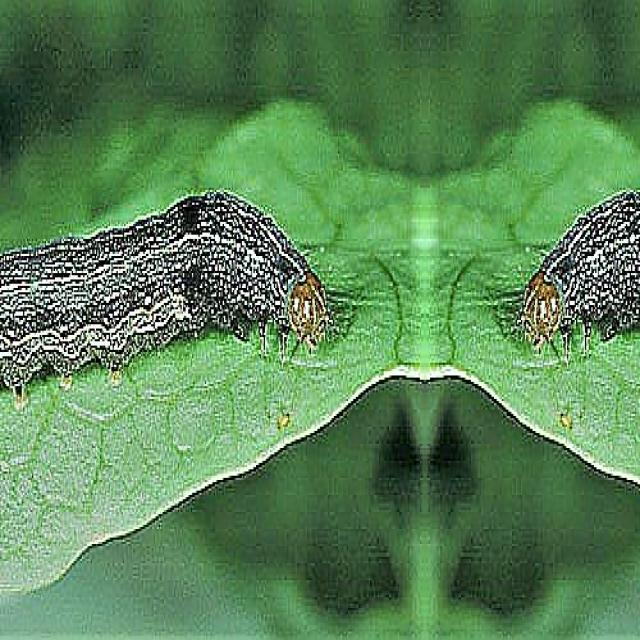Armyworm: (1, 164, 333, 391), (503, 196, 640, 417)
